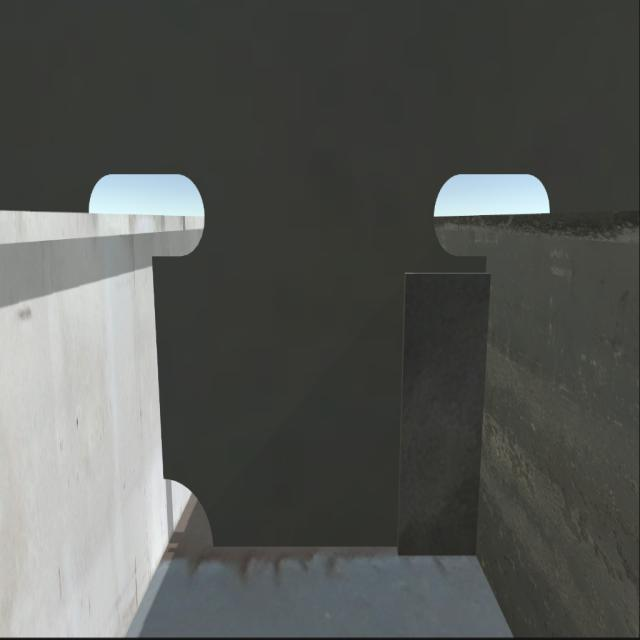fillet_hole: (160, 476, 217, 552)
fillet_yong_jeop_jang: (206, 530, 480, 560)
longi_yong_jeop_jang: (462, 248, 496, 556), (151, 247, 168, 485)
plate_CP01: (398, 276, 492, 556)
